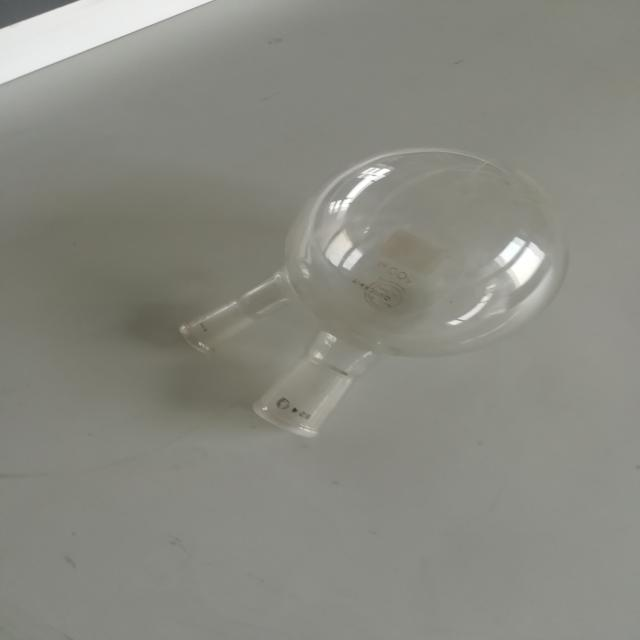Round_Bottom_Flask_Borosilicate_Glass_2_Neck: (128, 112, 612, 486)
